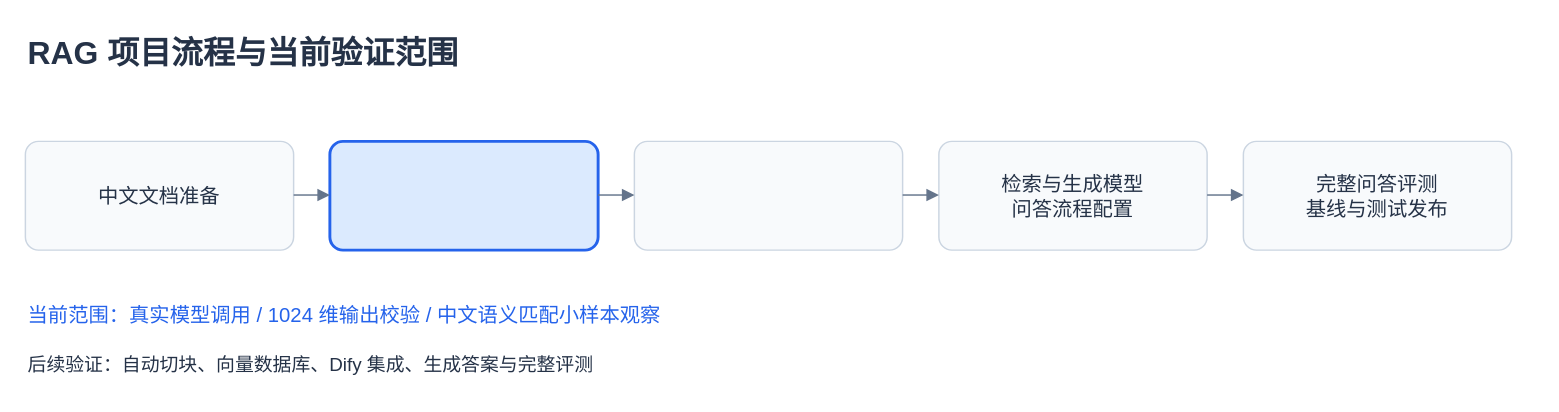
This 1559x412 diagram has some shape labels left out. Here are the shapes that lost their labels. From the top down, the centre of each, then its label:
point 463,195: Embedding 接入与验证 BGE-M3 · 当前环节
point 768,195: Dify 解析与切块 向量化、入库
